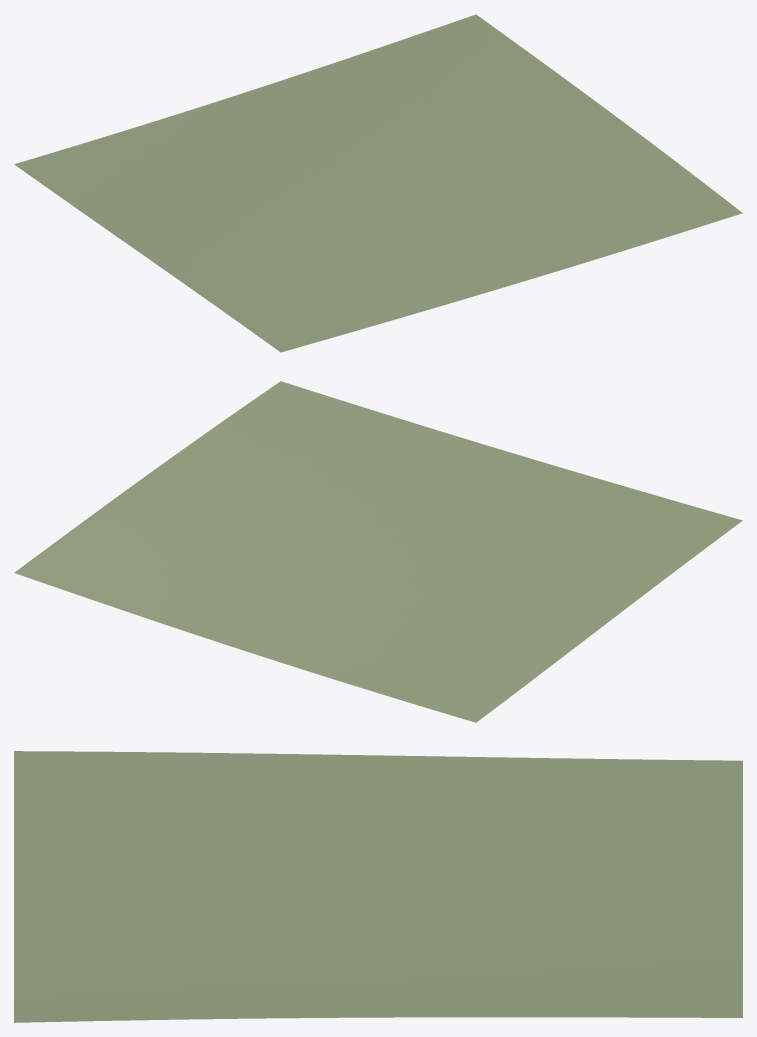
The model's file is expanse-20-15.glb.
3 views of the same model, one above another, from view 1: azimuth 30°, elevation 25°; view 2: azimuth 150°, elevation 25°; view 3: azimuth 270°, elevation 25° (orthographic). The views are drawn at different scales.
Parts seen in each view (by area): view 1: expanse-20-15; view 2: expanse-20-15; view 3: expanse-20-15.
Part boxes in pixels (box(x1,y1,x2,y2)): expanse-20-15: box(14, 14, 742, 352); expanse-20-15: box(14, 381, 742, 722); expanse-20-15: box(14, 751, 742, 1022).
Bounding box in the file's own units: 256 × 19.97 × 256.
